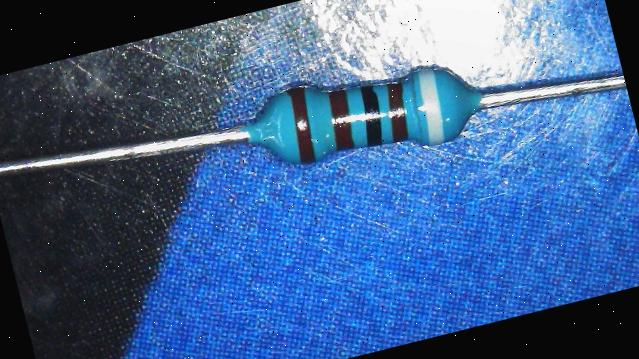black: (354, 82, 387, 144)
brown: (282, 86, 320, 164), (322, 87, 358, 150), (379, 80, 414, 141)
resistor: (230, 36, 498, 194)
white: (412, 66, 450, 143)
